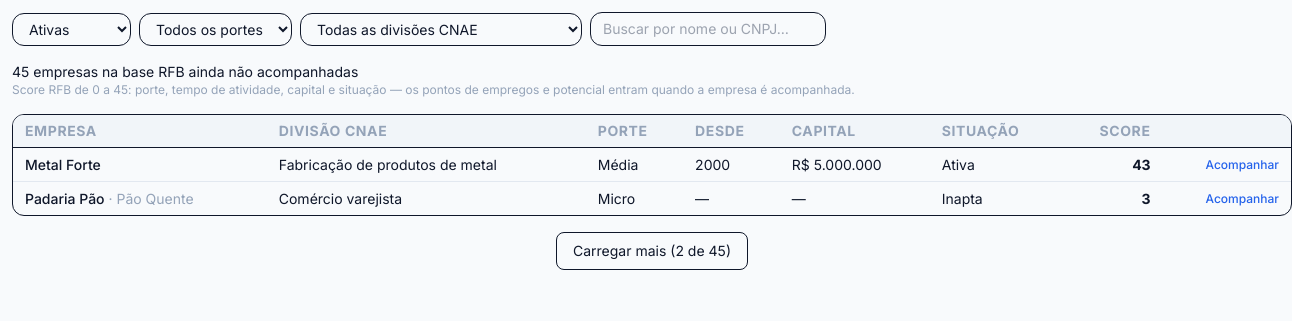
Scenario: DescobrirRfb › Carregar mais envia offset = itens carregados e anexa
Expected: the text "Metal Forte" is shown, left=25, top=156, right=101, bottom=172
Click the button "Carregar mais (2 de 45)".
click(652, 251)  # box left=556, top=232, right=748, bottom=270
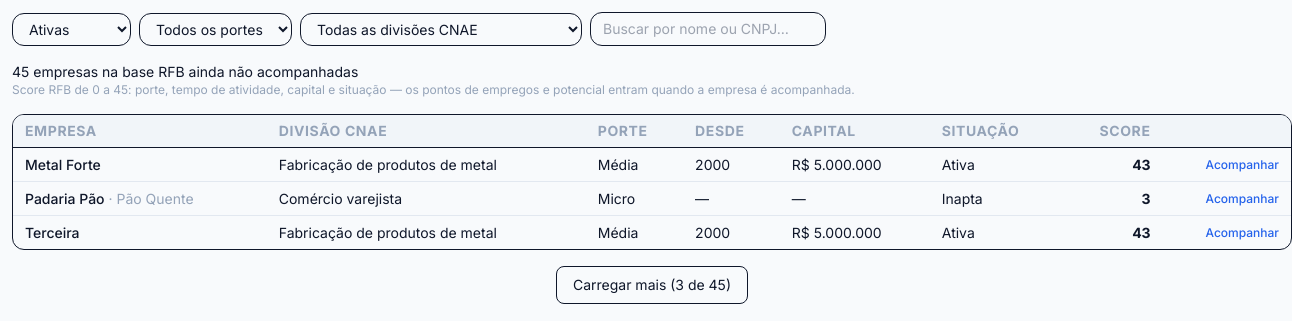
Expected: the text "Metal Forte" is shown, left=25, top=156, right=101, bottom=172
Now the text "Terceira" is shown, box left=25, top=224, right=80, bottom=240
